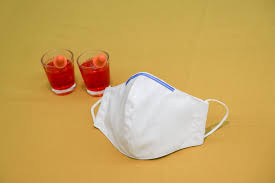mask: (90, 73, 225, 161)
